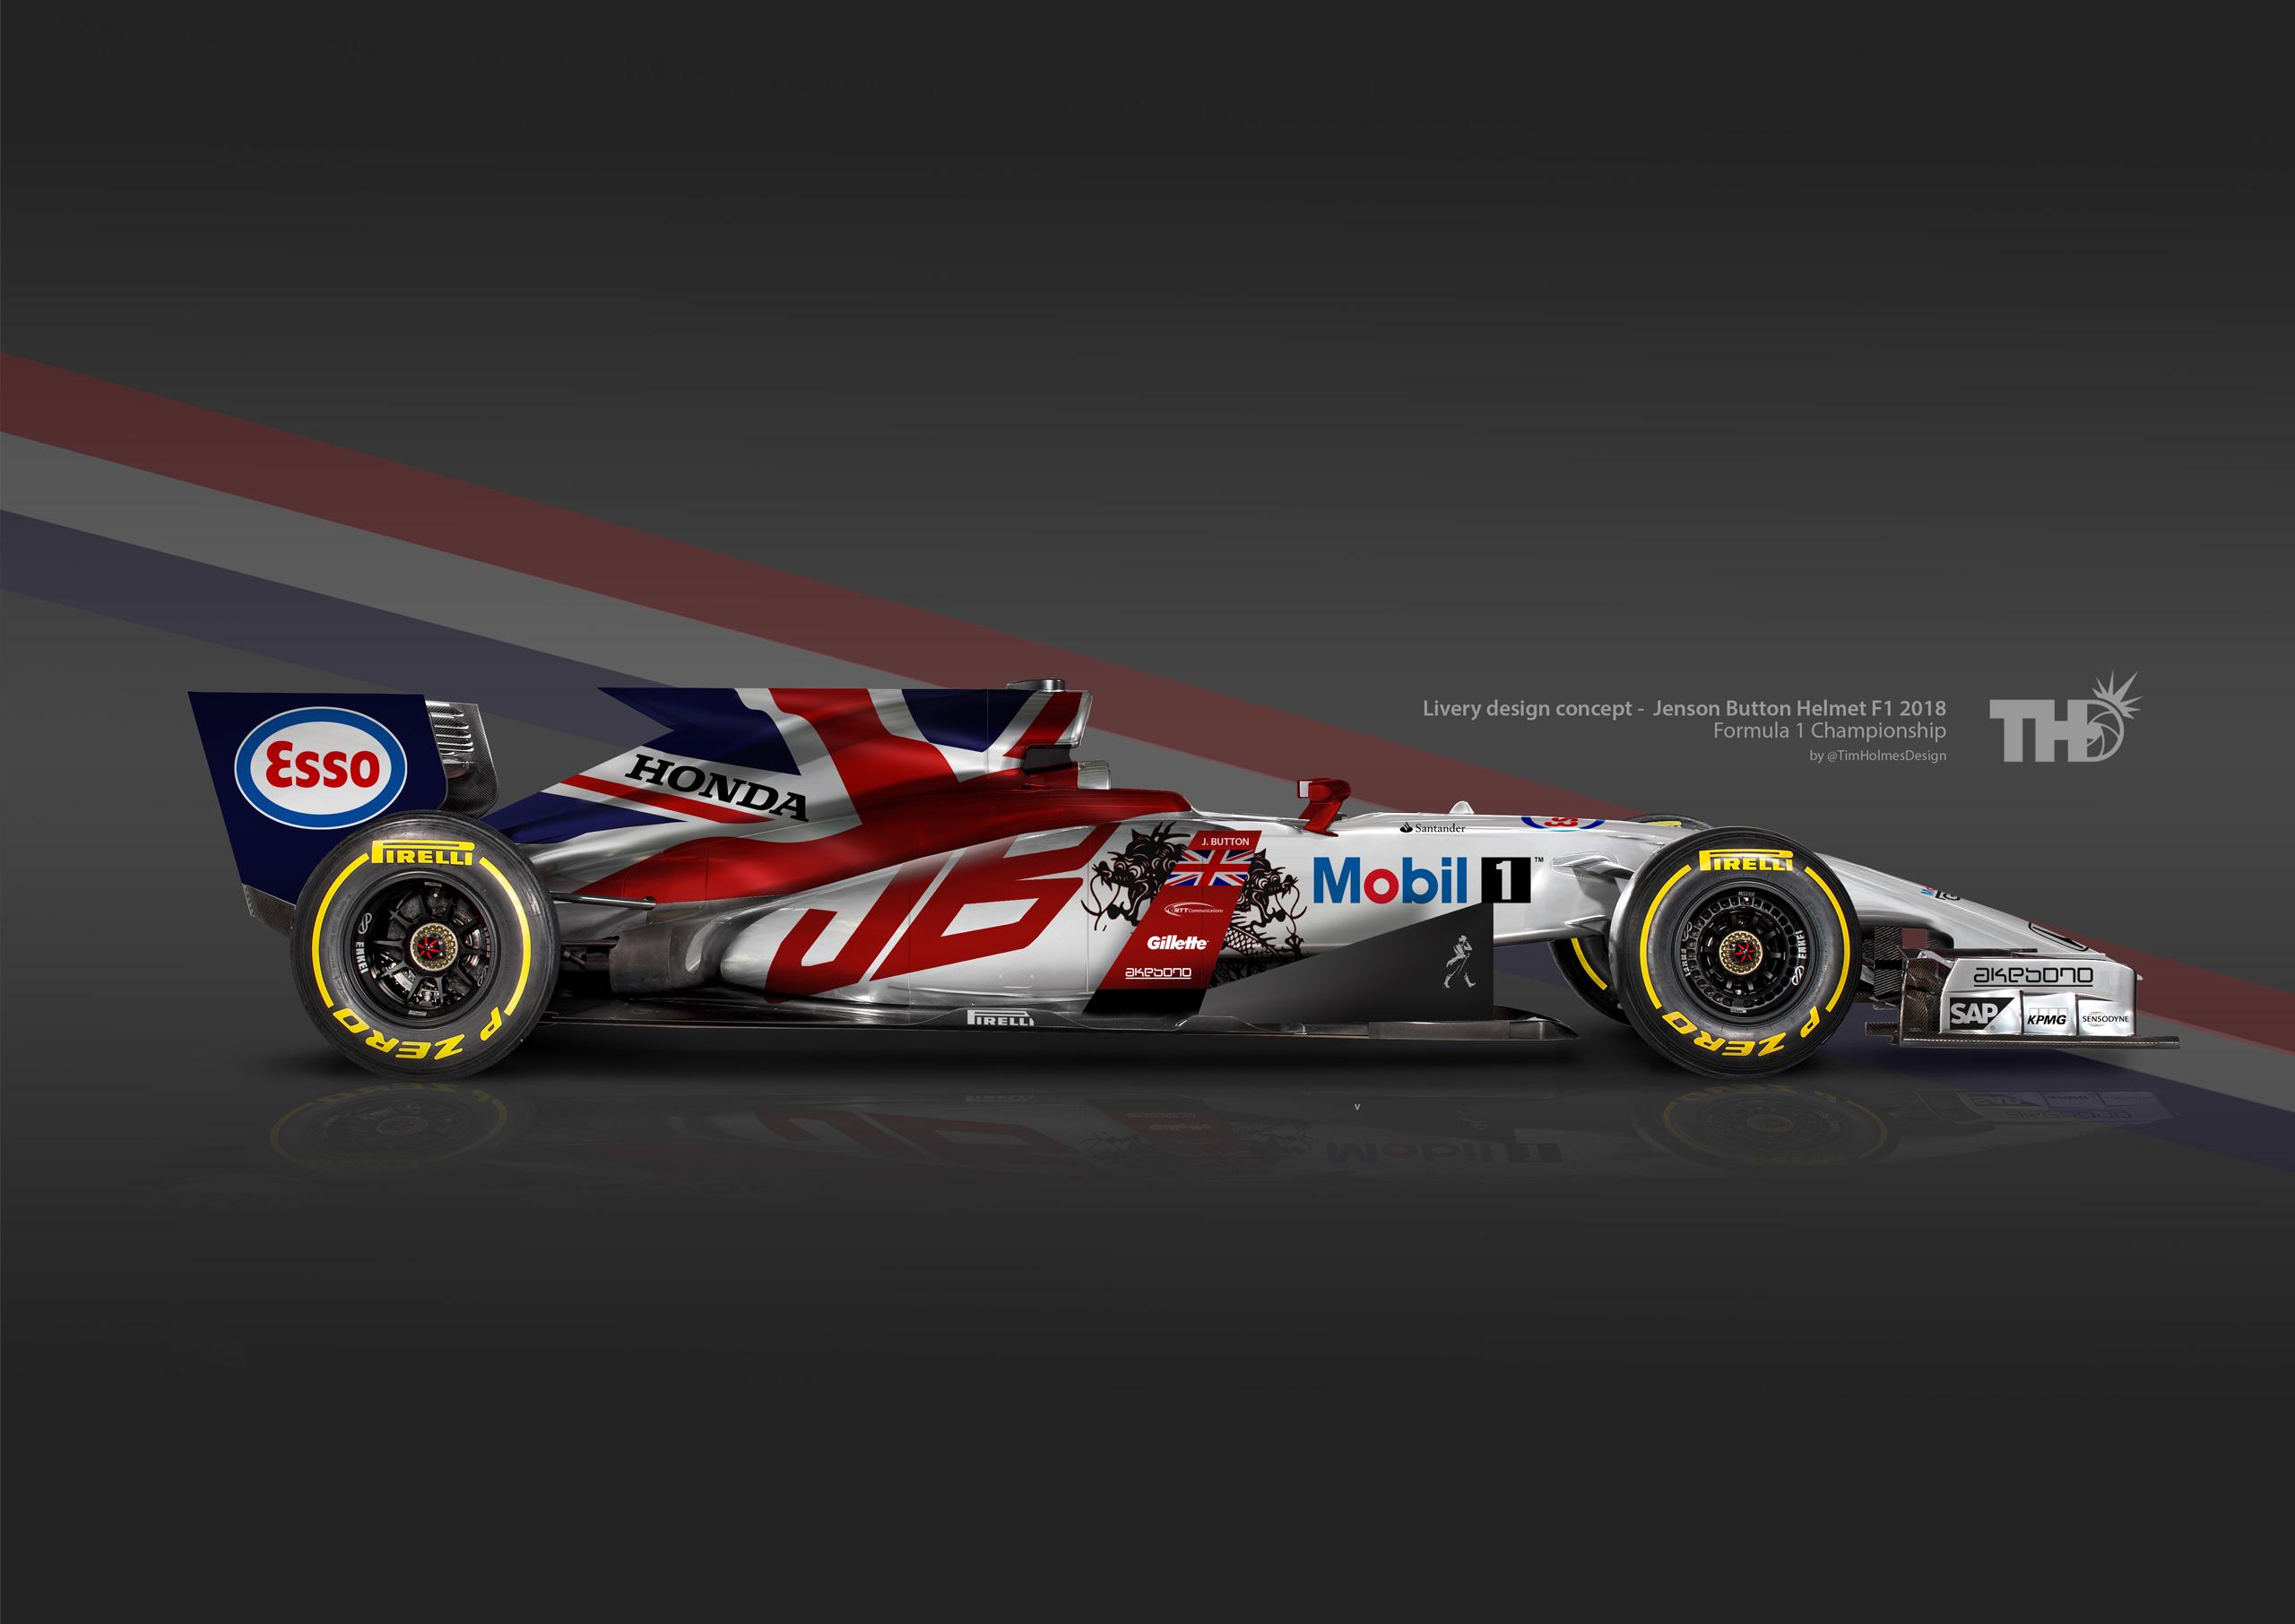f1_car: (155, 649, 2195, 1116)
